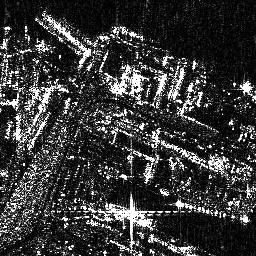ship: (107, 202, 161, 231)
